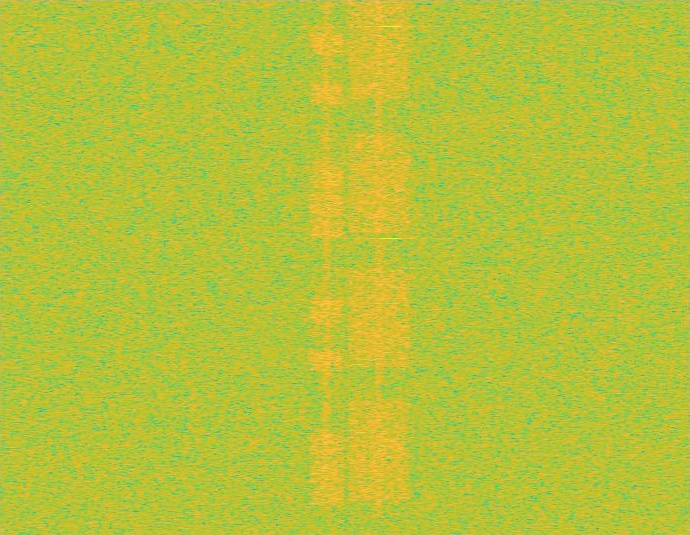5G: (345, 0, 414, 534)
DSSS: (374, 0, 384, 534), (323, 0, 331, 534)
LTE: (310, 0, 344, 534)
Radar: (384, 0, 398, 534)
